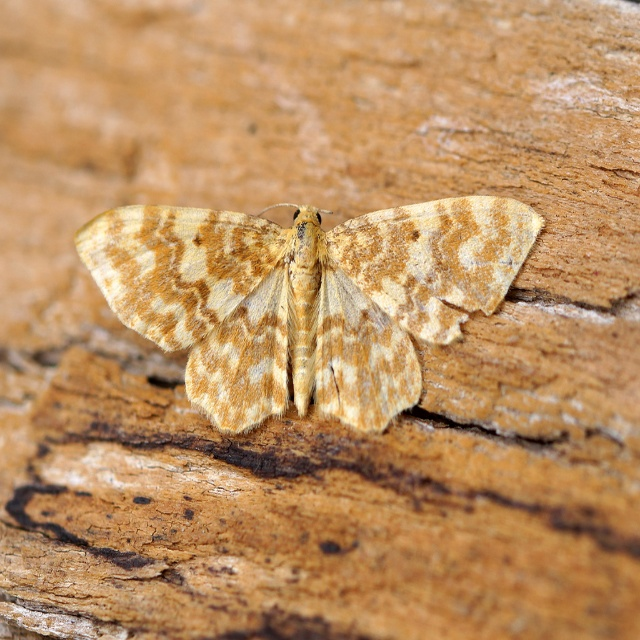Butterfly: (81, 179, 540, 443)
